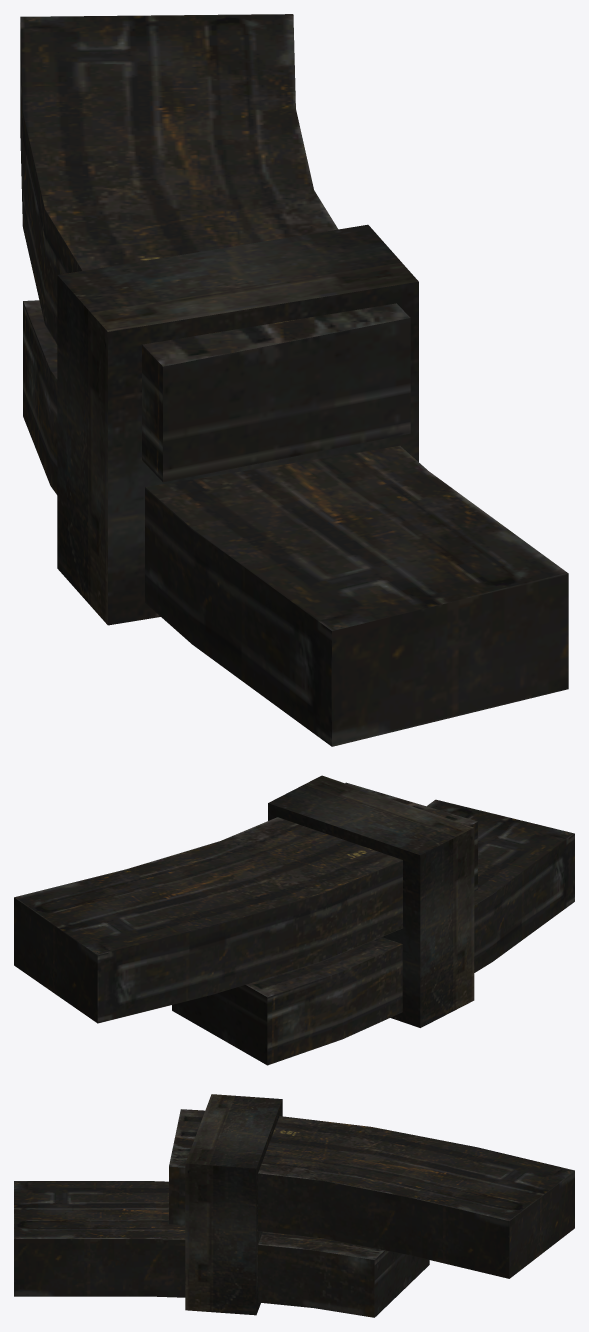
Rendered from t6_attach_fastmag_hk416_world_LOD0.obj.
The picture shows the model from 3 angles, top to bottom: view 1: azimuth 30°, elevation 25°; view 2: azimuth 150°, elevation 25°; view 3: azimuth 270°, elevation 25°; orthographic projection. The views are drawn at different scales.
Visible parts, largest first — view 1: mtl_t6_wpn_ar_hk416_camo2, mtl_t6_wpn_ar_hk416_camo4; view 2: mtl_t6_wpn_ar_hk416_camo2, mtl_t6_wpn_ar_hk416_camo4; view 3: mtl_t6_wpn_ar_hk416_camo2.
Part boxes in pixels (bbox=[...]): mtl_t6_wpn_ar_hk416_camo2: bbox=[20, 14, 568, 746]; mtl_t6_wpn_ar_hk416_camo4: bbox=[20, 23, 331, 746]; mtl_t6_wpn_ar_hk416_camo2: bbox=[14, 775, 574, 1064]; mtl_t6_wpn_ar_hk416_camo4: bbox=[97, 822, 574, 1065]; mtl_t6_wpn_ar_hk416_camo2: bbox=[14, 1094, 574, 1317].
Size of the model in its own units: 11.49 by 6.67 by 23.1.
